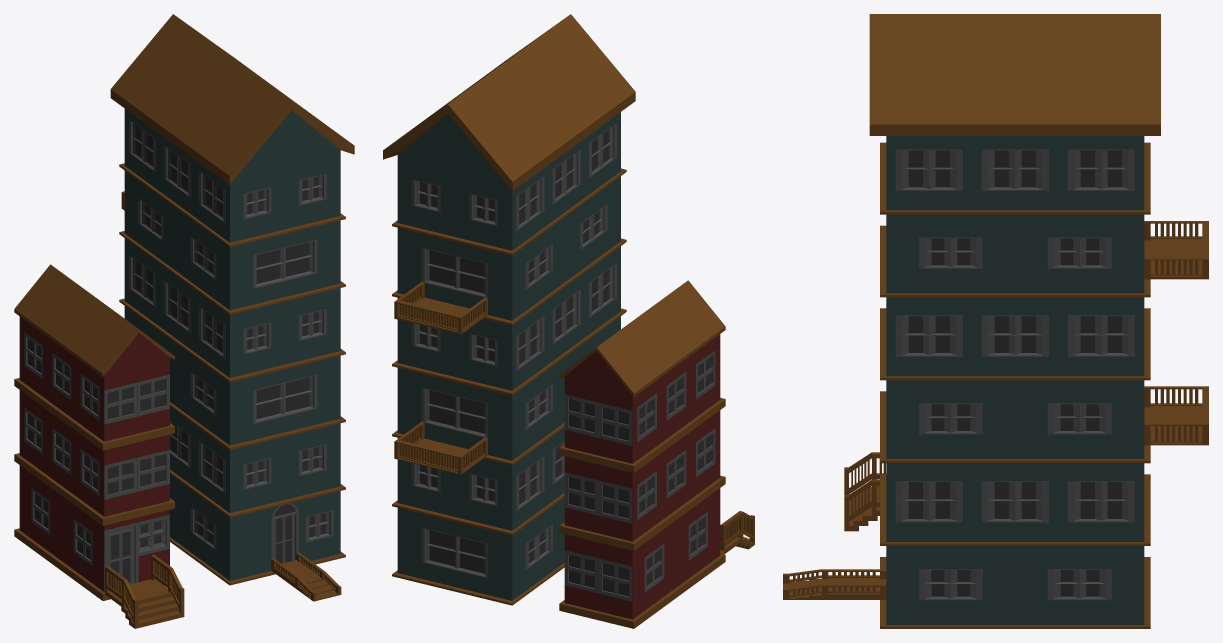
Rendered from huizzz.fbx.
3 views of the same model, side by side, from view 1: azimuth 30°, elevation 25°; view 2: azimuth 150°, elevation 25°; view 3: azimuth 270°, elevation 25° (orthographic). The views are drawn at different scales.
Parts seen in each view (by area): view 1: building_003, building_001; view 2: building_003, building_001; view 3: building_003, building_001.
Boxes of the visible parts, bbox=[...] form: building_003: bbox=[110, 14, 354, 601]; building_001: bbox=[14, 264, 184, 628]; building_003: bbox=[383, 14, 635, 605]; building_001: bbox=[559, 280, 754, 628]; building_003: bbox=[783, 14, 1208, 628]; building_001: bbox=[844, 452, 886, 531].
Size of the model in its own units: 2447 by 4836 by 3175.
